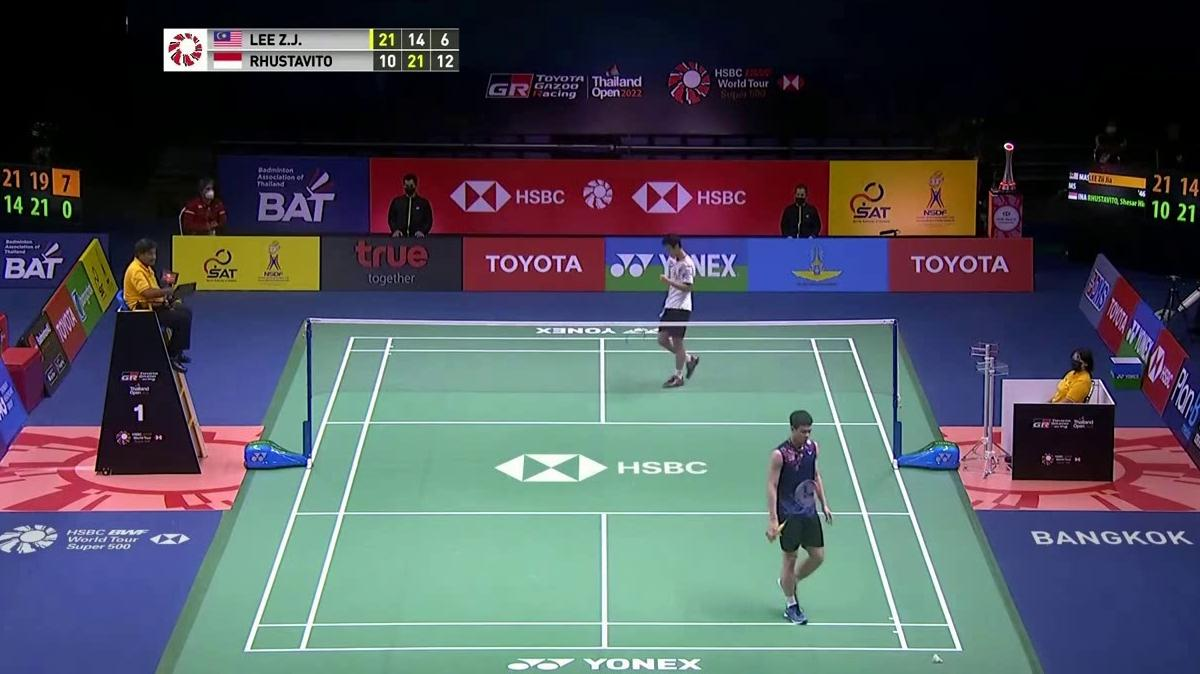racket: (767, 476, 823, 544), (626, 309, 665, 349)
shuttle: (928, 647, 947, 667)
